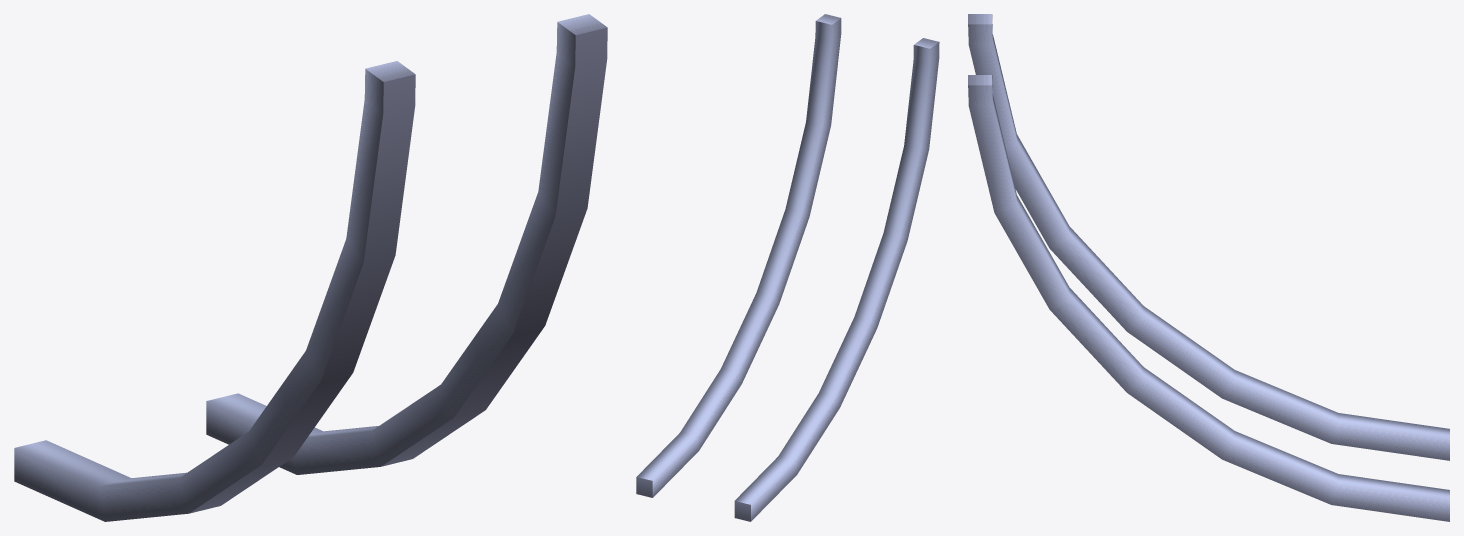
File: railroad-rail-straight-bend.glb
The picture shows the model from 3 angles, left to right: view 1: azimuth 30°, elevation 25°; view 2: azimuth 150°, elevation 25°; view 3: azimuth 270°, elevation 25°; orthographic projection. The views are drawn at different scales.
Parts seen in each view (by area): view 1: railroad-rail-straight-bend; view 2: railroad-rail-straight-bend; view 3: railroad-rail-straight-bend.
Part boxes in pixels (bbox=[...]): railroad-rail-straight-bend: bbox=[14, 14, 607, 521]; railroad-rail-straight-bend: bbox=[636, 14, 939, 521]; railroad-rail-straight-bend: bbox=[968, 14, 1449, 521].
Bounding box in the file's own units: 0.7 × 2 × 2.
Materials: 1 (1 with a texture image).
